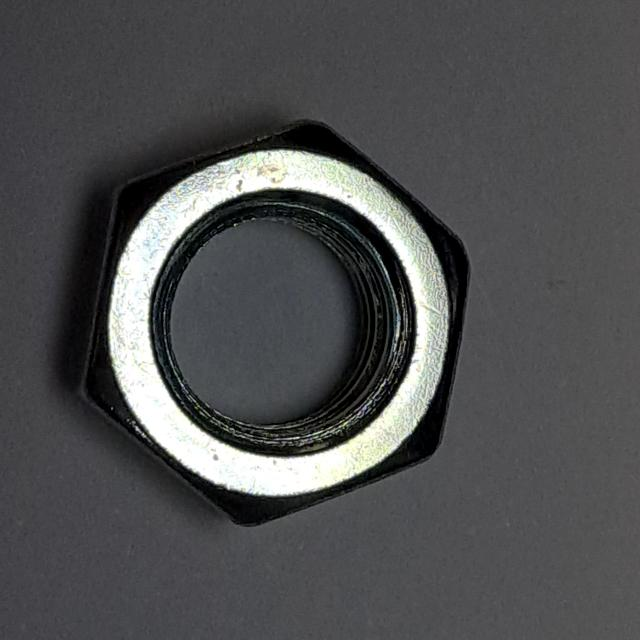Excellent: (62, 109, 485, 539)
